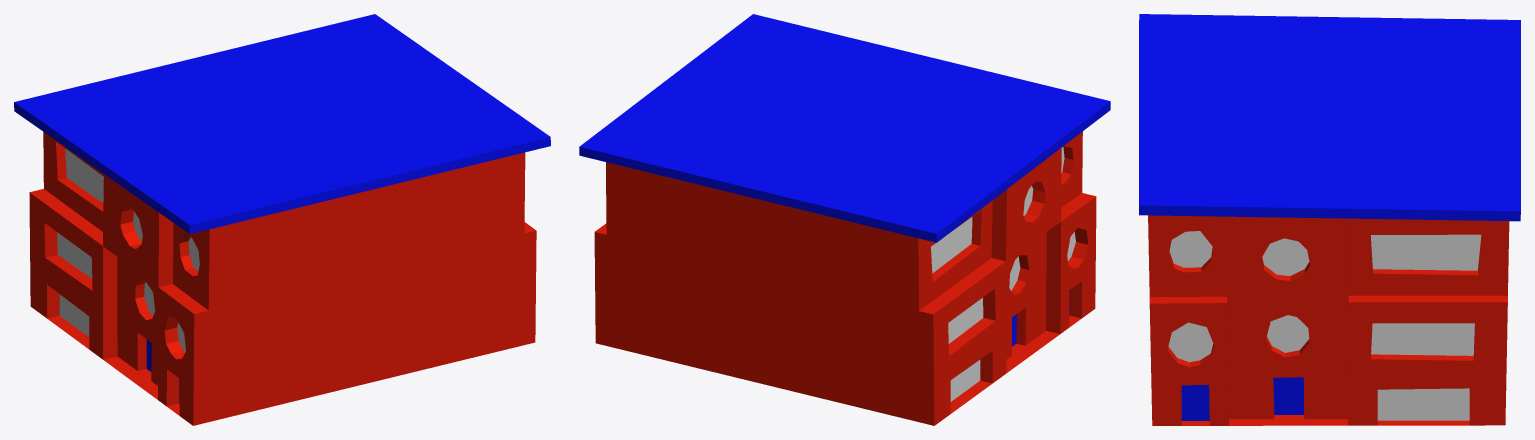
File: Building3 1.fbx
3 renders of one model, left to right at view 1: azimuth 30°, elevation 25°; view 2: azimuth 150°, elevation 25°; view 3: azimuth 270°, elevation 25°, orthographic. The views are drawn at different scales.
Visible parts, largest first — view 1: Plane; view 2: Plane; view 3: Plane.
Boxes of the visible parts, box(x1,y1,x2,y2) form: Plane: box(14, 14, 550, 425); Plane: box(579, 14, 1110, 425); Plane: box(1139, 14, 1520, 425).
Bounding box in the file's own units: 184 × 101 × 155.
